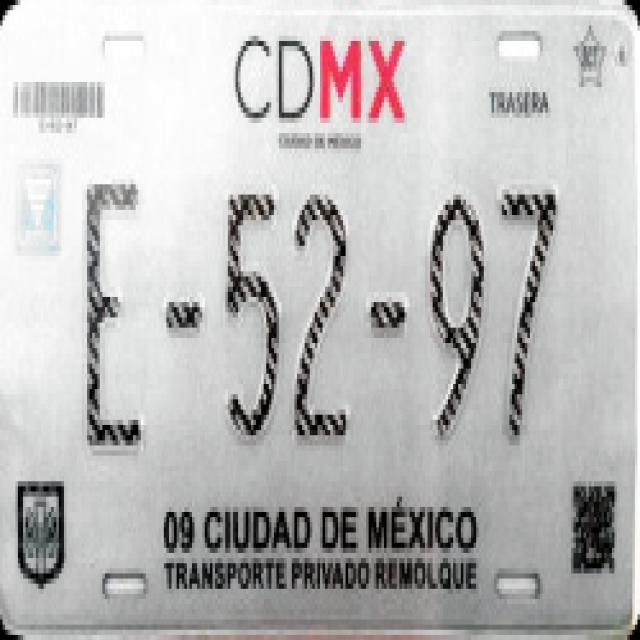placa: (67, 157, 607, 468)
